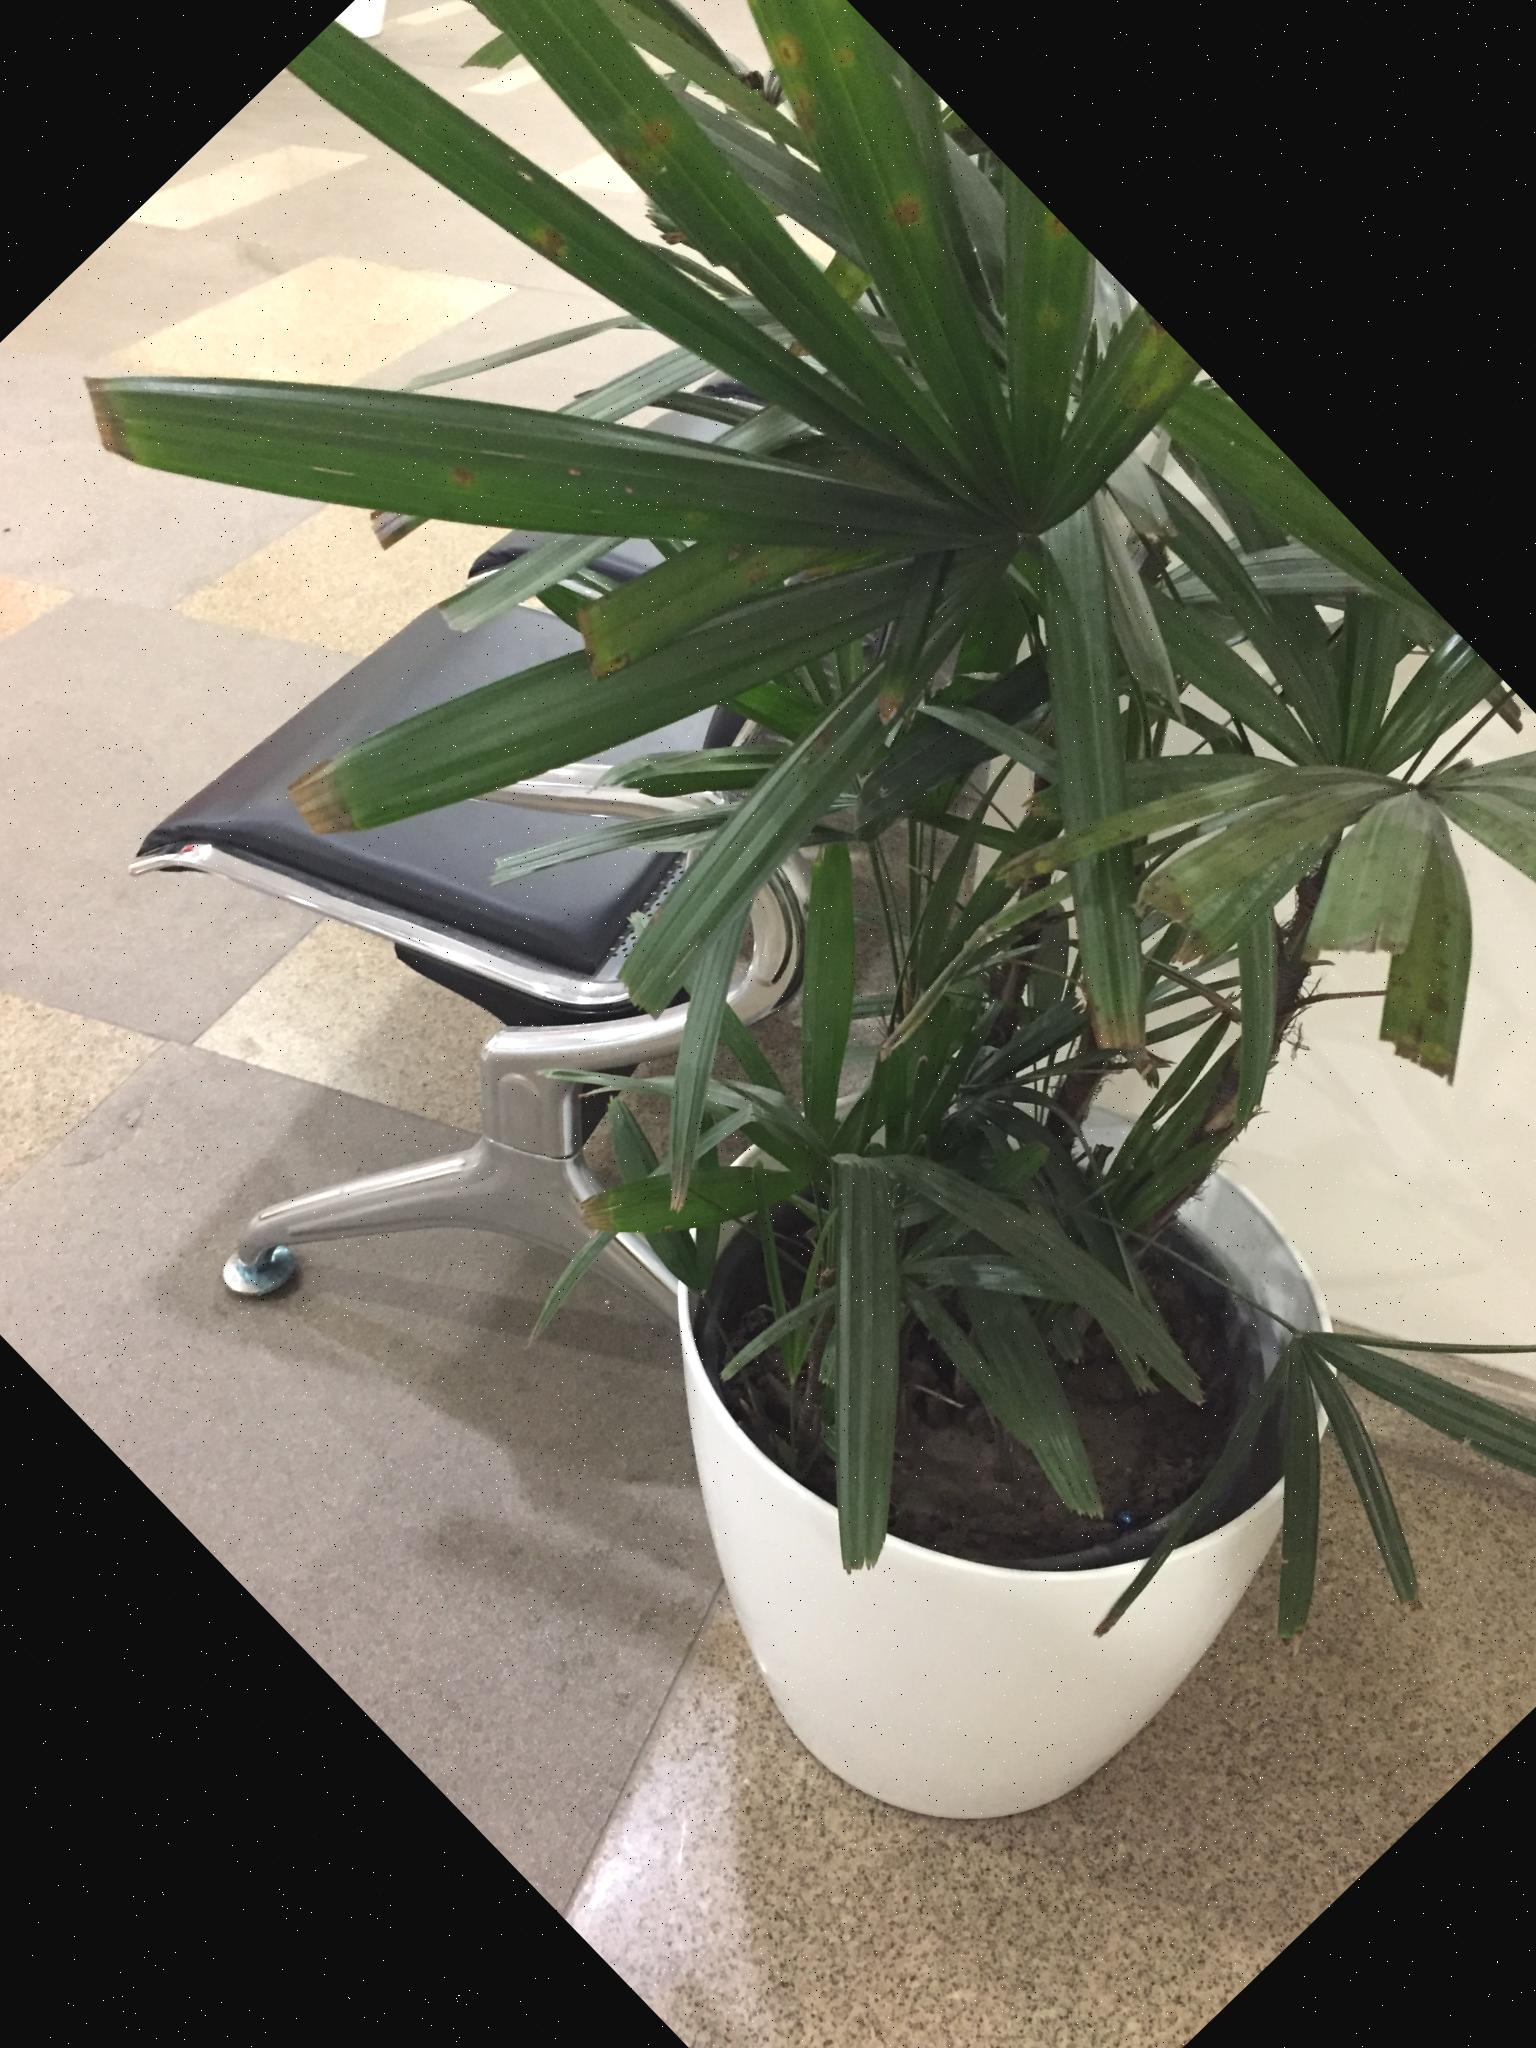chair: (0, 0, 1471, 1587)
